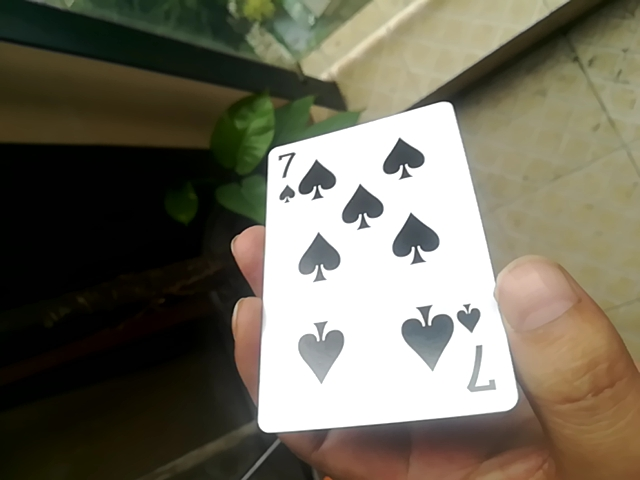ht 7: (254, 97, 510, 449)
